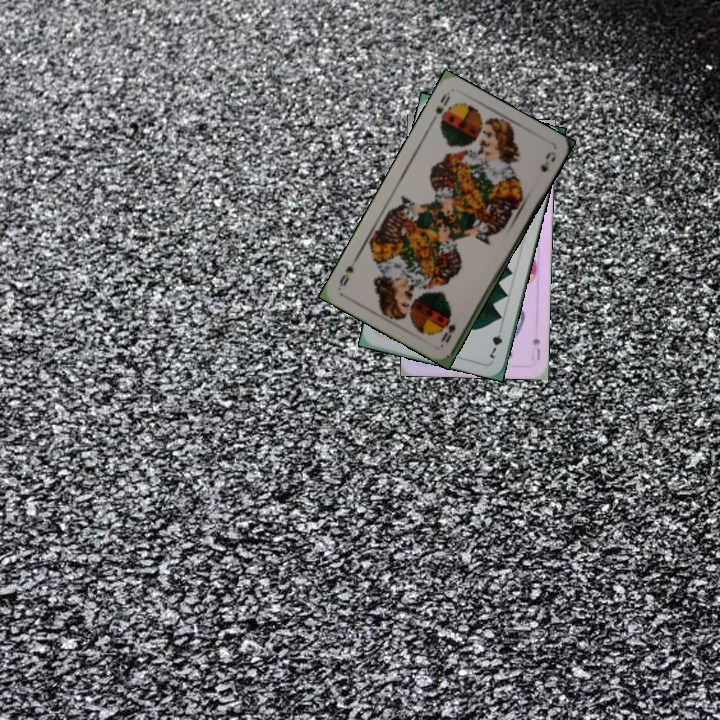G7: (485, 322, 505, 361)
SO: (431, 90, 453, 126), (437, 320, 458, 346)
SU: (527, 334, 543, 363)
